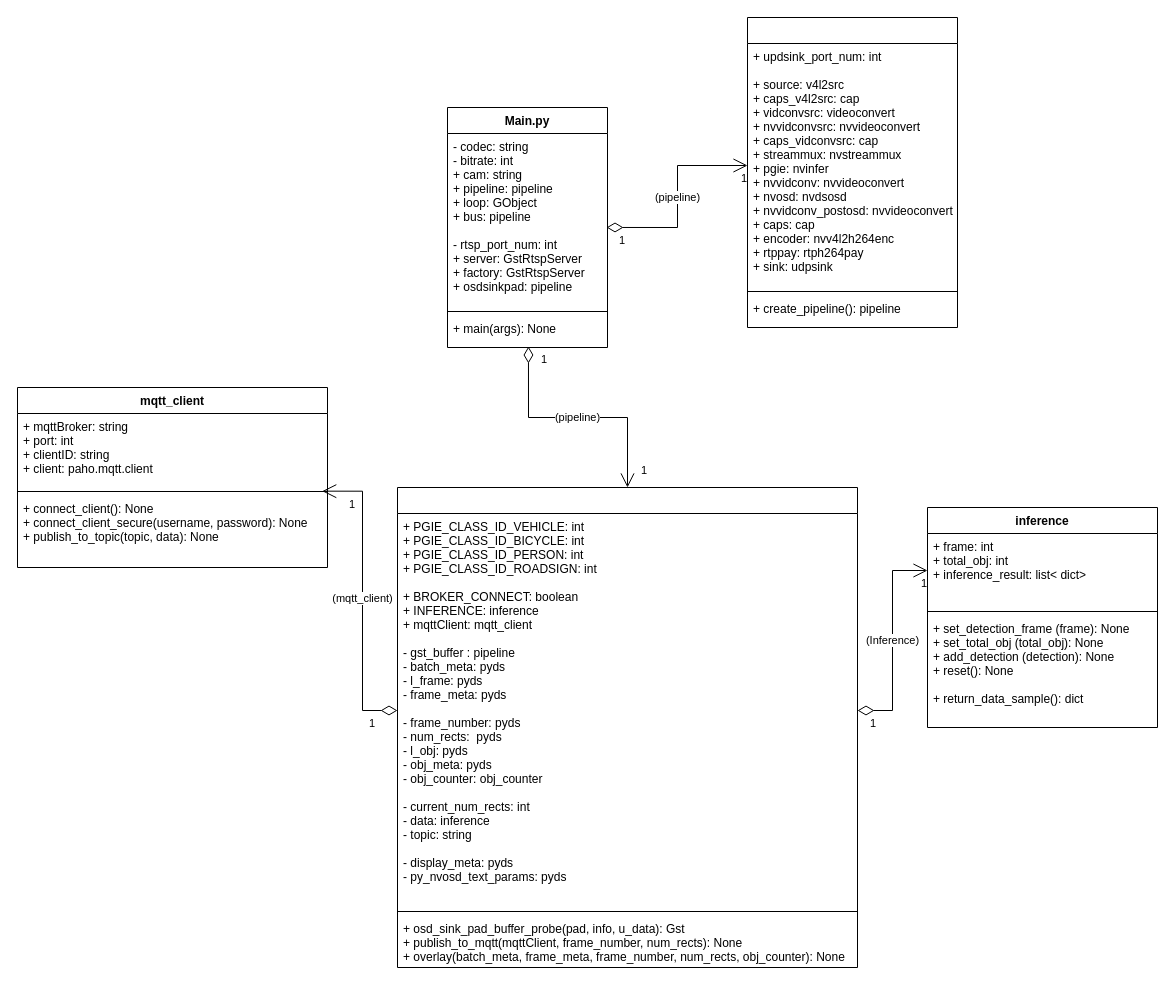
Some shapes in this 1175 by 988 pixel diagram are drawn without their labels. Each missing label, with the box of its shape:
deepstream_pipeline: (746, 16, 958, 328)
inference_results.py: (396, 486, 858, 968)
